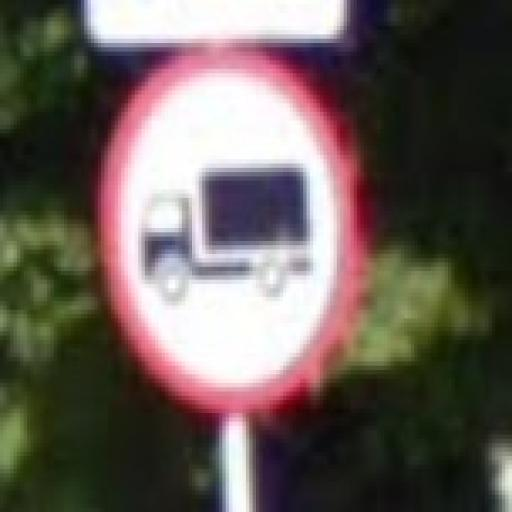traffic_sign: (99, 44, 372, 414)
